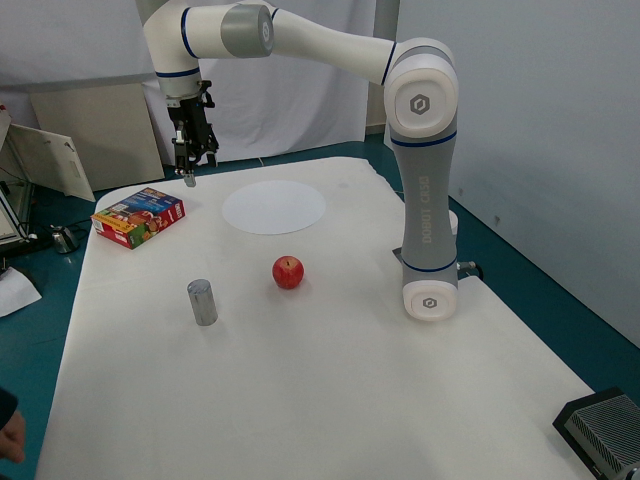apple: (263, 248, 304, 295)
metalROD: (179, 272, 224, 330)
